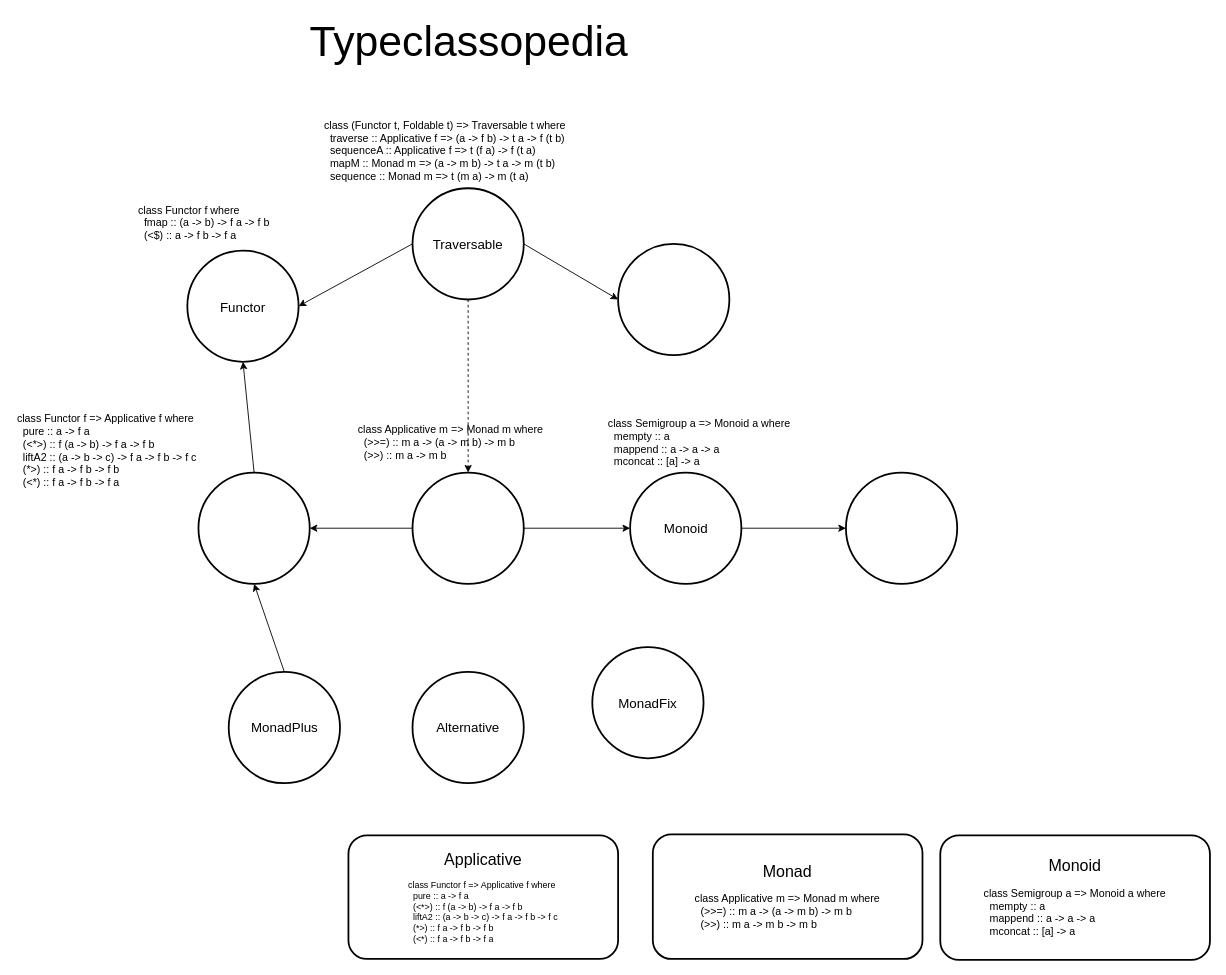
This 1226x975 diagram has some shape labels left out. The shapes that lost their labels are listed below. From the top down, each one's centre as x and y in pixels, then its label:
point 673,299: Foldable
point 253,527: Applicative
point 467,527: Monad
point 901,527: Semigroup
